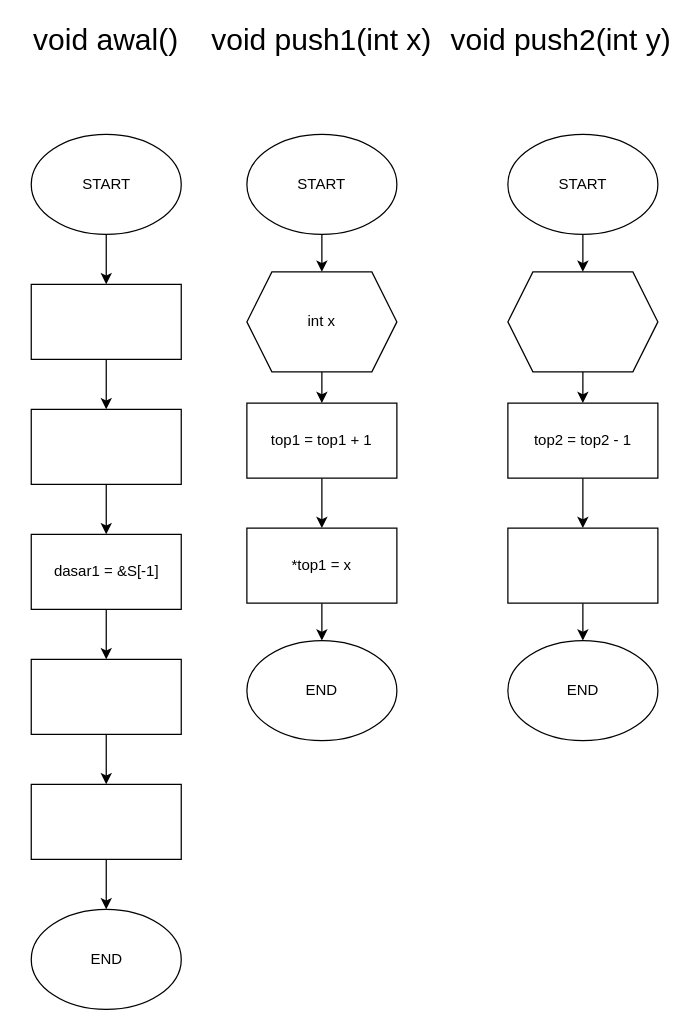
The diagram is 696 pixels wide and 1031 high, and some of its shapes have lost their labels. Each missing label, with the box of its shape:
*top2 = y: (507, 527, 658, 603)
dasar2 = &S[n]: (30, 658, 181, 734)
helpI = &S[-1]: (30, 783, 181, 859)
int y: (507, 271, 658, 372)
top1 = &S[-1]: (30, 283, 181, 359)
top2 = &S[n]: (30, 408, 181, 484)
